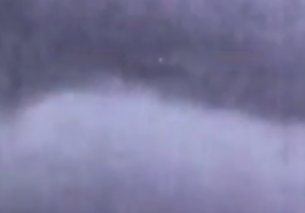Target: (159, 59, 161, 62)
